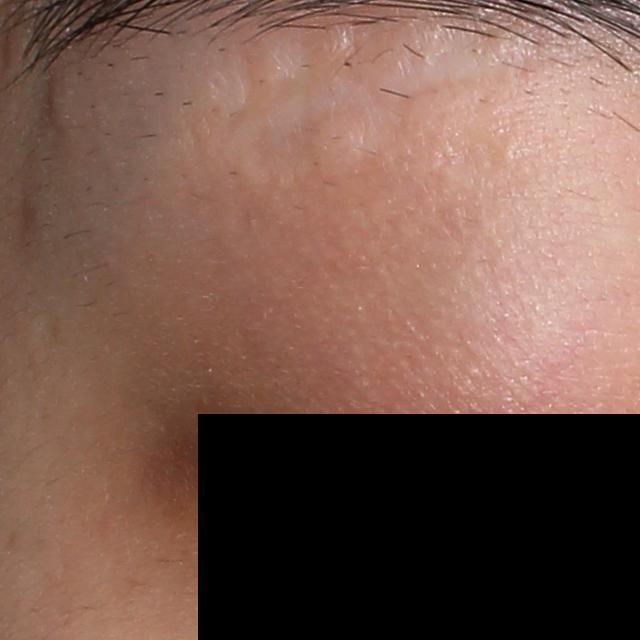other: (212, 36, 579, 167), (194, 40, 258, 128), (254, 28, 315, 100), (314, 22, 361, 81)
